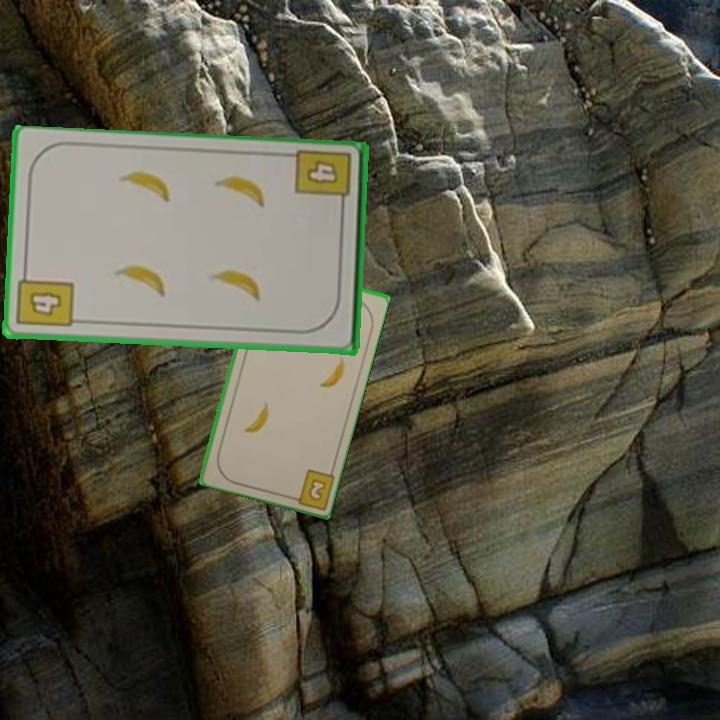2b: (284, 465, 336, 510)
4b: (292, 147, 355, 214), (14, 266, 77, 330)
